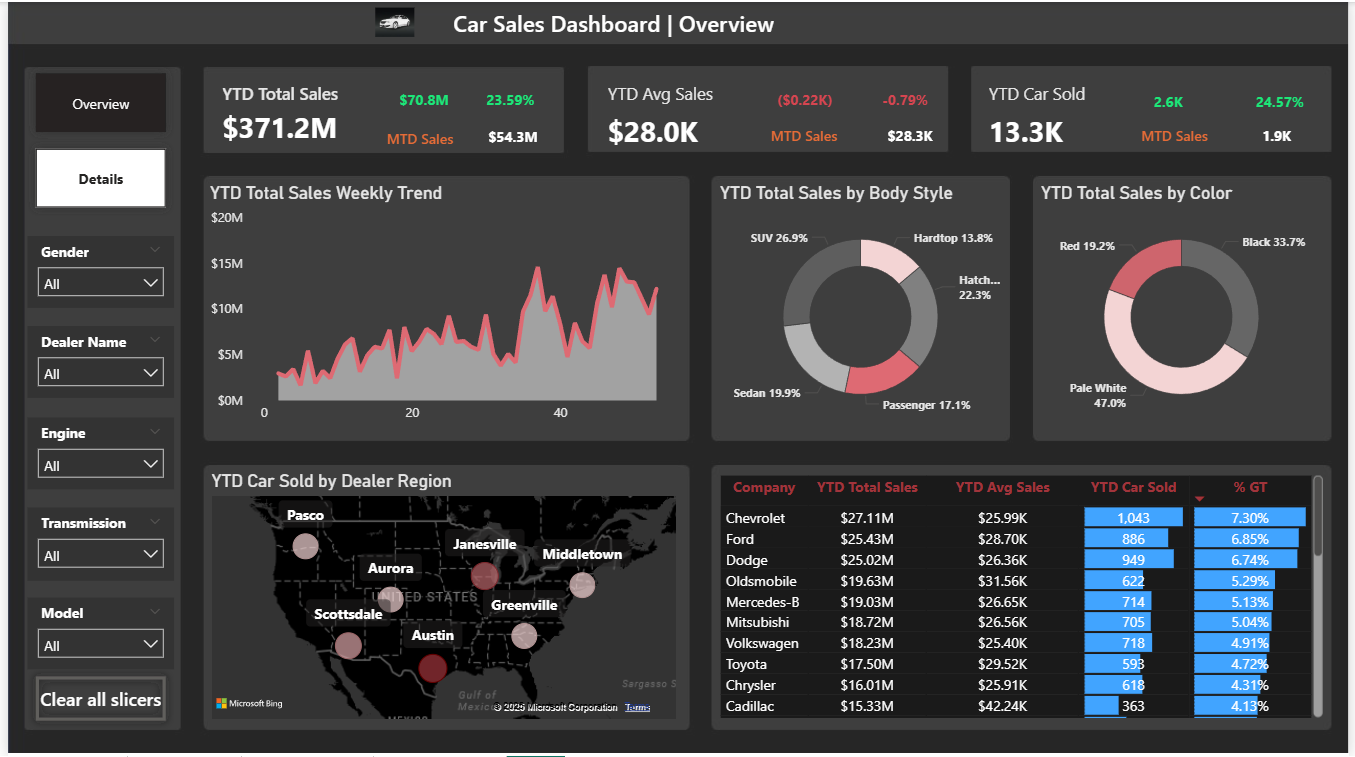

The page's visual inventory and layout, read from the dashboard file:
{"tool":"powerbi","page":{"name":"Overview","canvas":[1280,720],"ordinal":0},"visuals":[{"type":"cardVisual","fields":{"Data":["_Measures.YTD Total Sales"]},"box":[188.4,58.7,149.9,85.1],"z":0},{"type":"cardVisual","fields":{"Data":["_Measures.YTD Avg Sales"]},"box":[556.3,58.6,159.4,84.6],"z":1000},{"type":"cardVisual","fields":{"Data":["_Measures.YTD Car Sold"]},"box":[919,58.6,157.8,84.6],"z":2000},{"type":"cardVisual","fields":{"Data":["_Measures.Sales Diff"]},"box":[356.5,58.7,83,56.7],"z":3000},{"type":"cardVisual","fields":{"Data":["_Measures.YOY %"]},"box":[439.5,58.7,83,56.7],"z":4000},{"type":"cardVisual","fields":{"Data":["_Measures.MTD Total Sales"]},"box":[439.5,101.3,83,42.5],"z":5000},{"type":"textbox","box":[356.5,115.4,83,28.4],"z":6000},{"type":"cardVisual","fields":{"Data":["_Measures.Avg Sales Diff"]},"box":[717.3,58.6,100.8,56.9],"z":7000},{"type":"cardVisual","fields":{"Data":["_Measures.Avg YOY %"]},"box":[818.2,58.7,83,56.7],"z":8000},{"type":"cardVisual","fields":{"Data":["_Measures.Avg MTD Sales"]},"box":[818.2,100.8,83,42.3],"z":9000},{"type":"textbox","box":[723.8,113.9,87.8,29.3],"z":10000},{"type":"cardVisual","fields":{"Data":["_Measures.Car sold diff"]},"box":[1076.8,60.2,83,56.9],"z":11000},{"type":"cardVisual","fields":{"Data":["_Measures.YOY % Car Sold"]},"box":[1174.4,60.2,87.8,56.9],"z":12000},{"type":"cardVisual","fields":{"Data":["_Measures.MTD Sales Car sold"]},"box":[1159.7,100.8,83,39],"z":13000},{"type":"textbox","box":[1076.8,113.9,83,29.3],"z":14000},{"type":"stackedAreaChart","title":"YTD Total Sales Weekly Trend","fields":{"Category":["Date_dim.WeekNo"],"Y":["Sum(car_data.Price ($))"]},"box":[188.3,171.7,453.3,238.3],"z":15000},{"type":"donutChart","fields":{"Series":["car_data.Body Style"],"Y":["_Measures.YTD Total Sales"]},"box":[675,172.4,278.1,237.5],"z":16000},{"type":"donutChart","fields":{"Y":["_Measures.YTD Total Sales"],"Series":["car_data.Color"]},"box":[980.8,172.4,278.1,237.5],"z":17000},{"type":"map","fields":{"Category":["car_data.Dealer_Region"],"Size":["_Measures.YTD Car Sold"]},"box":[188.7,447.3,453.8,242.4],"z":18000},{"type":"tableEx","fields":{"Values":["car_data.Company","_Measures.YTD Total Sales","_Measures.YTD Avg Sales","_Measures.YTD Car Sold","Divide(_Measures.YTD Total Sales, ScopedEval(_Measures.YTD Total Sales, []))"]},"box":[675.3,446.8,586,241],"z":19000},{"type":"textbox","box":[310.7,0,535.1,39],"z":20000},{"type":"slicer","fields":{"Values":["car_data.Dealer_Name"]},"box":[18.3,310,140,68.3],"z":21000},{"type":"slicer","fields":{"Values":["car_data.Engine"]},"box":[18.3,396.7,140,68.3],"z":22000},{"type":"slicer","fields":{"Values":["car_data.Transmission"]},"box":[18.3,483.3,140,70],"z":23000},{"type":"slicer","fields":{"Values":["car_data.Model"]},"box":[18.3,568.3,140,68.3],"z":24000},{"type":"slicer","fields":{"Values":["car_data.Gender"]},"box":[18.3,223.3,140,68.3],"z":25000},{"type":"pageNavigator","box":[18.3,60,140,145],"z":26000},{"type":"image","box":[300,0,140,38.3],"z":27000},{"type":"actionButton","box":[18.3,636.7,140,58.3],"z":28000}]}

Visuals, with their boxes in screenshot pixels (x1, y1, x2, y2), scaled from the page's 1280x720 canvas onto the 1355x757 screenshot:
cardVisual - _Measures.YTD Total Sales: [199,62,358,151]
cardVisual - _Measures.YTD Avg Sales: [589,62,758,151]
cardVisual - _Measures.YTD Car Sold: [973,62,1140,151]
cardVisual - _Measures.Sales Diff: [377,62,465,121]
cardVisual - _Measures.YOY %: [465,62,553,121]
cardVisual - _Measures.MTD Total Sales: [465,107,553,151]
textbox: [377,121,465,151]
cardVisual - _Measures.Avg Sales Diff: [759,62,866,121]
cardVisual - _Measures.Avg YOY %: [866,62,954,121]
cardVisual - _Measures.Avg MTD Sales: [866,106,954,150]
textbox: [766,120,859,151]
cardVisual - _Measures.Car sold diff: [1140,63,1228,123]
cardVisual - _Measures.YOY % Car Sold: [1243,63,1336,123]
cardVisual - _Measures.MTD Sales Car sold: [1228,106,1316,147]
textbox: [1140,120,1228,151]
"YTD Total Sales Weekly Trend" stackedAreaChart: [199,181,679,431]
donutChart - car_data.Body Style x _Measures.YTD Total Sales: [715,181,1009,431]
donutChart - _Measures.YTD Total Sales x car_data.Color: [1038,181,1333,431]
map - car_data.Dealer_Region x _Measures.YTD Car Sold: [200,470,680,725]
tableEx - car_data.Company x _Measures.YTD Total Sales: [715,470,1335,723]
textbox: [329,0,895,41]
slicer - car_data.Dealer_Name: [19,326,168,398]
slicer - car_data.Engine: [19,417,168,489]
slicer - car_data.Transmission: [19,508,168,582]
slicer - car_data.Model: [19,598,168,669]
slicer - car_data.Gender: [19,235,168,307]
pageNavigator: [19,63,168,216]
image: [318,0,466,40]
actionButton: [19,669,168,731]
